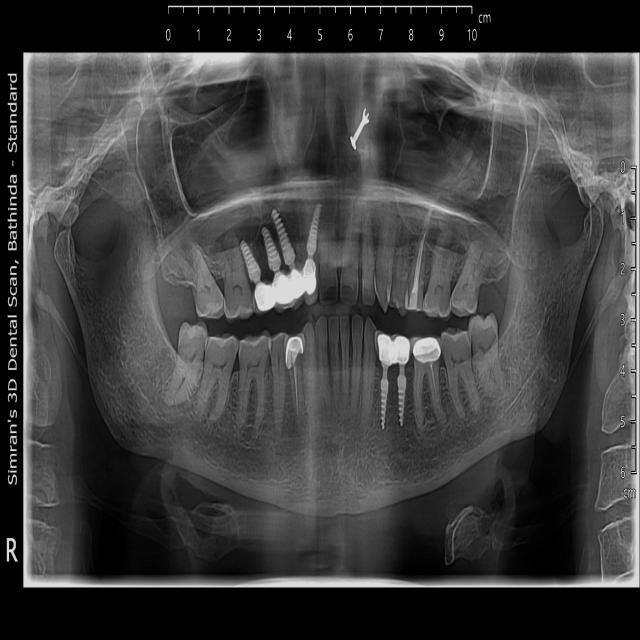Crown: (413, 336, 442, 364), (270, 273, 294, 305), (255, 280, 277, 312), (285, 337, 303, 371), (301, 255, 316, 295), (377, 333, 395, 366), (393, 334, 411, 367), (289, 266, 305, 300)
Filling: (409, 290, 417, 310)
Implant: (271, 206, 297, 267), (306, 200, 322, 257), (262, 227, 282, 271), (241, 241, 260, 282), (397, 374, 406, 426), (381, 378, 389, 426)
Mandibular Canal: (119, 323, 266, 479), (460, 312, 560, 442)
Root Canal Treatment: (413, 228, 426, 293), (431, 364, 438, 409), (294, 360, 299, 419), (416, 371, 422, 412)
maxillary sinus: (138, 76, 287, 274), (394, 61, 528, 271)
